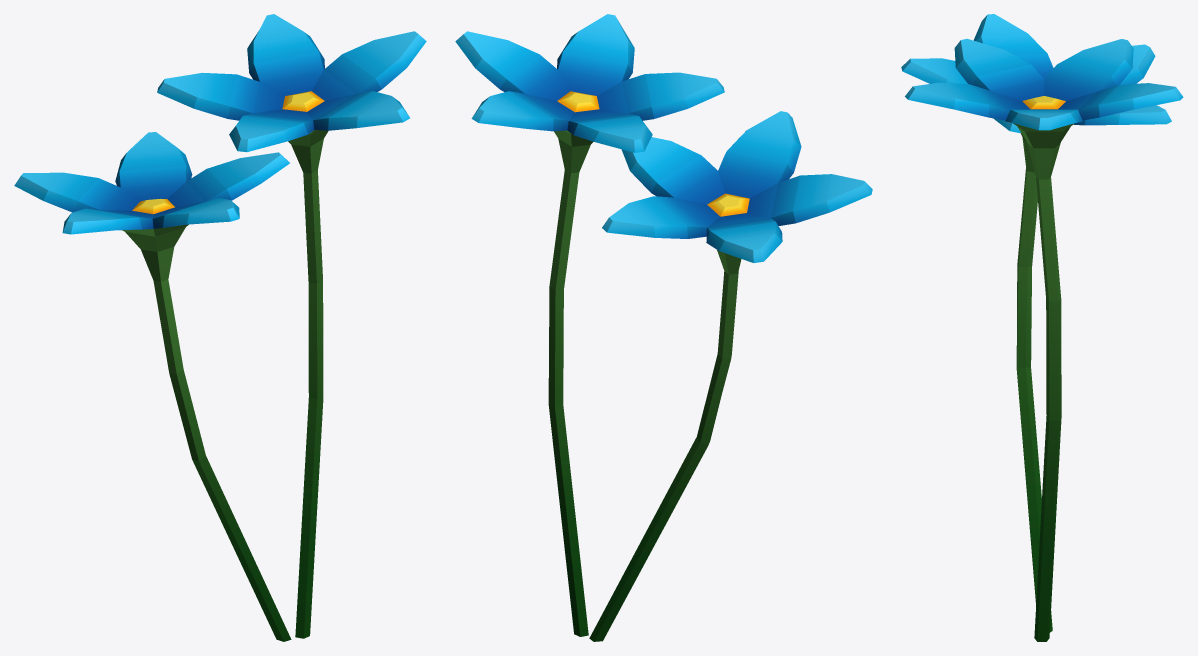
The model's file is Flower_Blue_02.fbx.
3 views of the same model, side by side, from view 1: azimuth 30°, elevation 25°; view 2: azimuth 150°, elevation 25°; view 3: azimuth 270°, elevation 25° (orthographic).
Visible parts, largest first — view 1: Flower_Blue_02; view 2: Flower_Blue_02; view 3: Flower_Blue_02.
Boxes of the visible parts, x1,y1,x2,y2 form: Flower_Blue_02: (14,14,426,641); Flower_Blue_02: (455,14,872,641); Flower_Blue_02: (901,14,1183,641).
Bounding box in the file's own units: 31.96 × 45.21 × 20.02.
